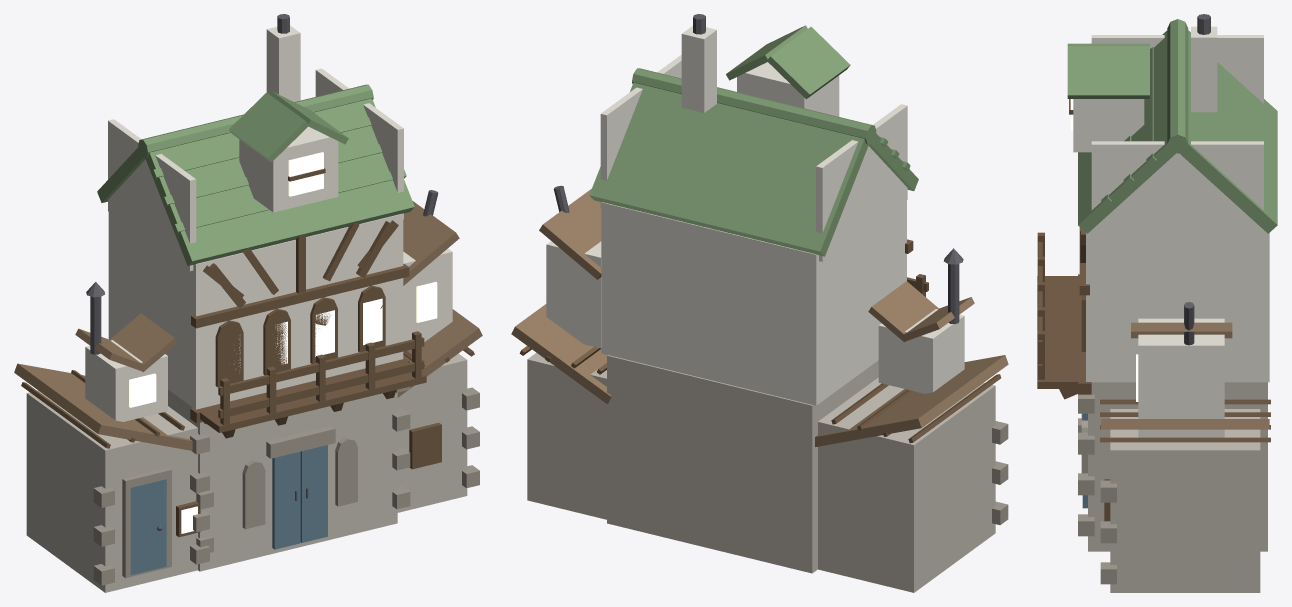
File: building_medieval_fantasy_house.glb
3 renders of one model, left to right at view 1: azimuth 30°, elevation 25°; view 2: azimuth 150°, elevation 25°; view 3: azimuth 270°, elevation 25°, orthographic. The views are drawn at different scales.
Parts seen in each view (by area): view 1: building_medieval_fantasy_house; view 2: building_medieval_fantasy_house; view 3: building_medieval_fantasy_house.
Part boxes in pixels (<box>): building_medieval_fantasy_house: <box>14,14,482,592</box>; building_medieval_fantasy_house: <box>511,14,1008,592</box>; building_medieval_fantasy_house: <box>1037,14,1277,592</box>.
Bounding box in the file's own units: 6.34 × 7.43 × 3.21.
